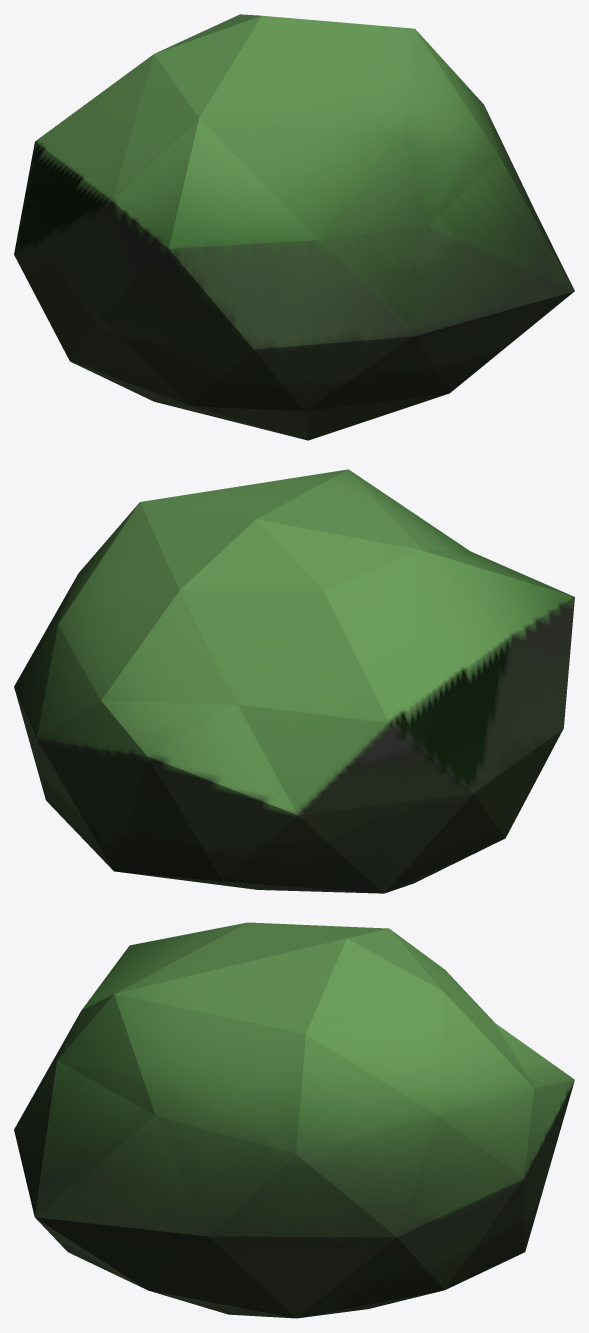
The model's file is M_stickyMoss.fbx.
The picture shows the model from 3 angles, top to bottom: view 1: azimuth 30°, elevation 25°; view 2: azimuth 150°, elevation 25°; view 3: azimuth 270°, elevation 25°; orthographic projection. The views are drawn at different scales.
Parts seen in each view (by area): view 1: M_stickyMoss; view 2: M_stickyMoss; view 3: M_stickyMoss.
Boxes of the visible parts, box(x1,y1,x2,y2) form: M_stickyMoss: box(14, 14, 574, 440); M_stickyMoss: box(14, 469, 574, 893); M_stickyMoss: box(14, 922, 574, 1318).
Bounding box in the file's own units: 37.83 × 28.75 × 41.59.
Materials: 1 (1 with a texture image).
